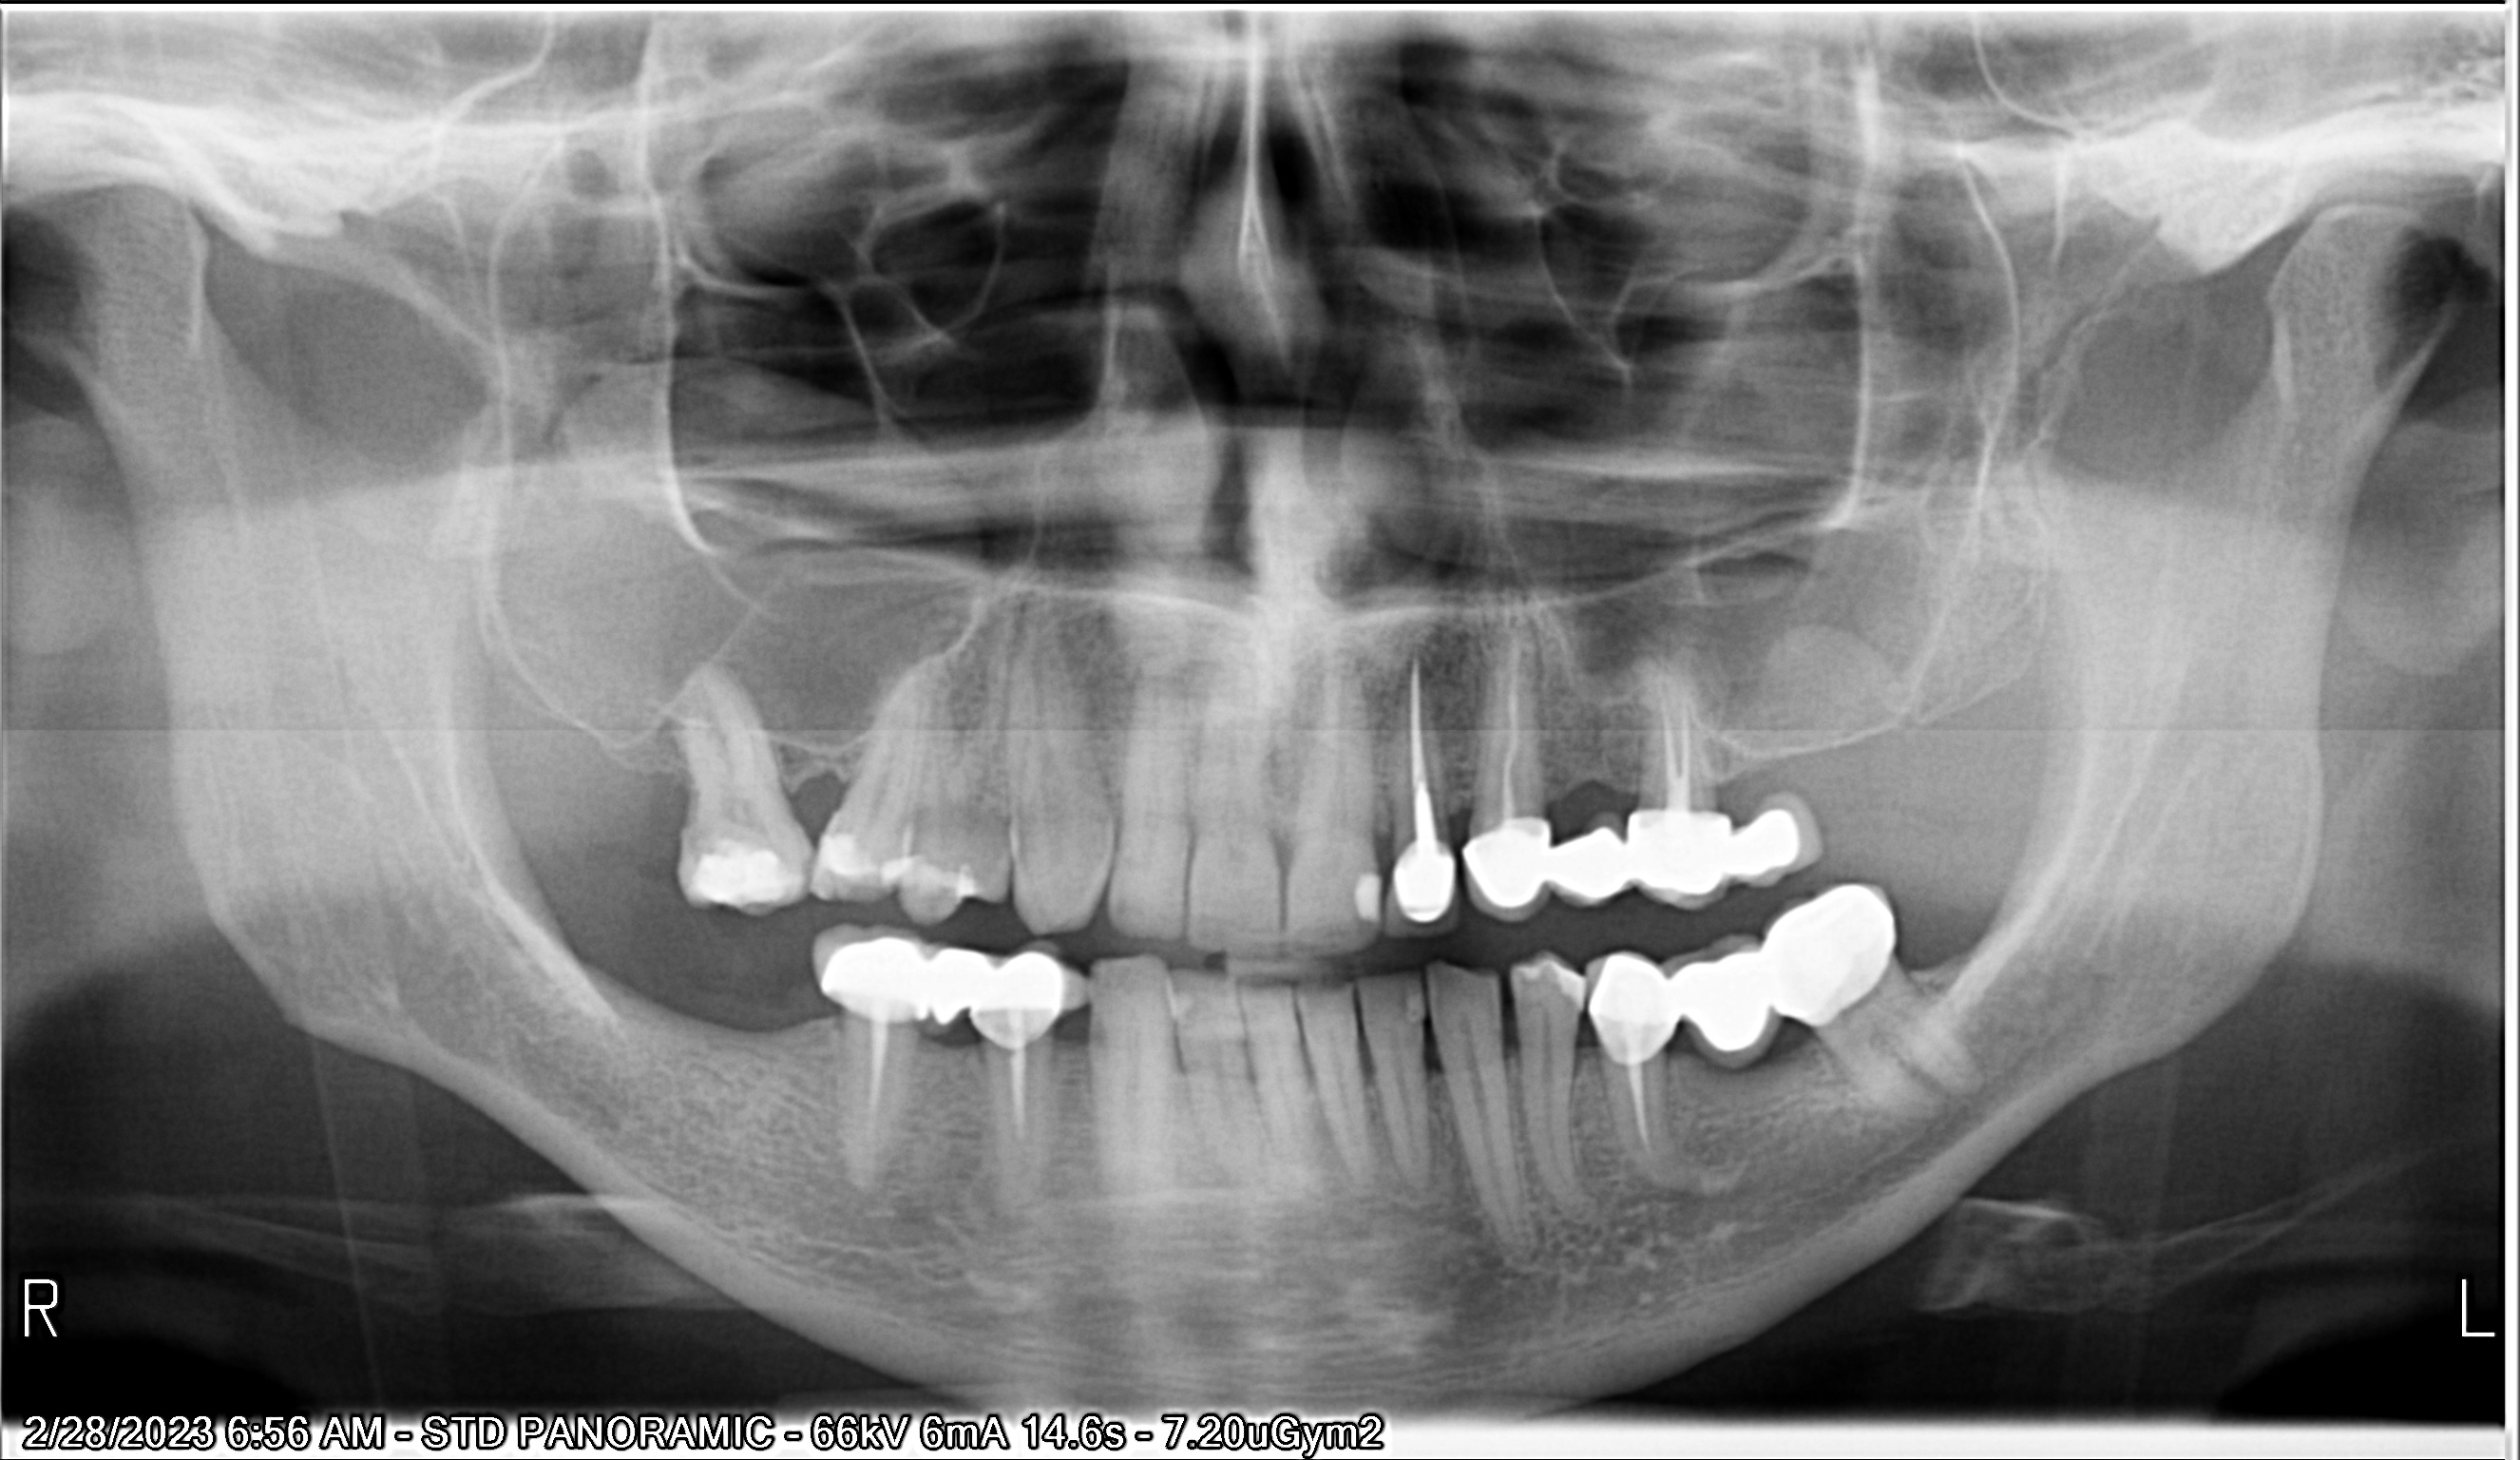END: (1393, 652, 1459, 838), (1488, 629, 1539, 834), (1653, 676, 1707, 841), (1615, 1052, 1671, 1177), (848, 1020, 894, 1166), (1000, 1029, 1040, 1187)
OBT: (679, 834, 787, 914), (804, 831, 875, 906), (889, 845, 948, 918), (1339, 871, 1395, 933), (1534, 958, 1589, 1012)
PRR: (1462, 800, 1818, 919), (802, 925, 1070, 1043), (1761, 878, 1897, 1029), (1671, 946, 1798, 1057), (1377, 822, 1466, 942), (1596, 951, 1685, 1065)
